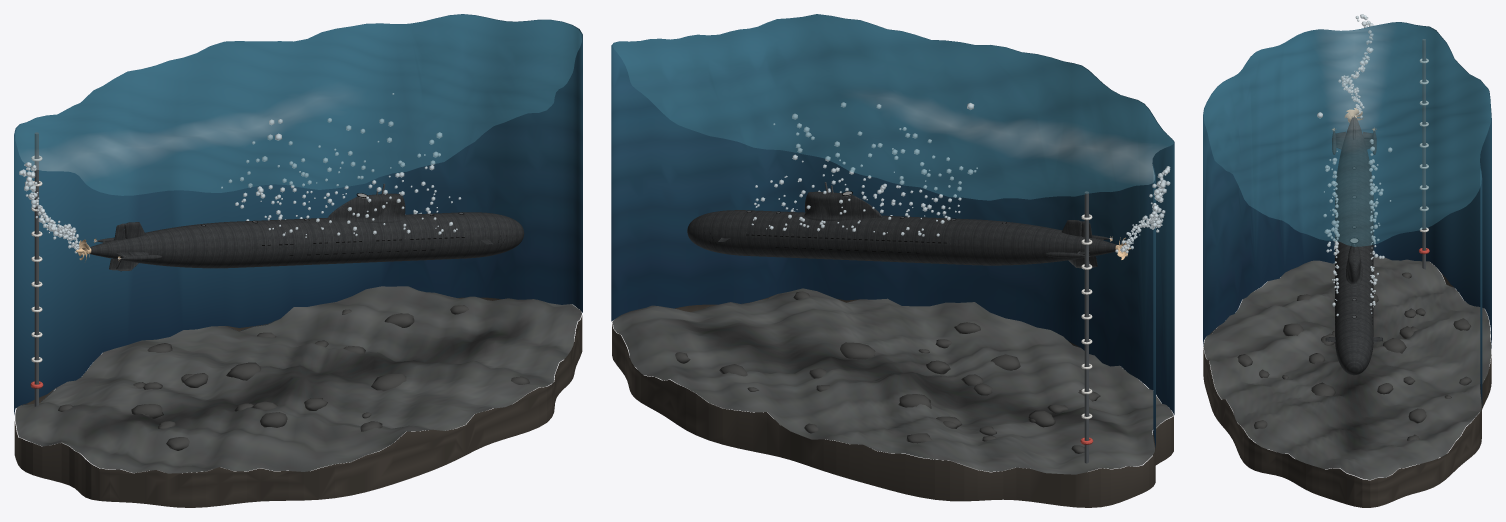
File: k278-komsomolec.glb
3 renders of one model, left to right at view 1: azimuth 30°, elevation 25°; view 2: azimuth 150°, elevation 25°; view 3: azimuth 270°, elevation 25°, orthographic. The views are drawn at different scales.
Visible parts, largest first — view 1: tolshcha_vody, poverhnost, dno, bok_grunta, korpus, kamni, puzyri, ograzhdenie, shkala_stolb; view 2: tolshcha_vody, poverhnost, dno, bok_grunta, korpus, kamni, puzyri, ograzhdenie, shkala_stolb; view 3: tolshcha_vody, poverhnost, dno, bok_grunta, korpus, kamni, puzyri, shkala_stolb, ograzhdenie.
Boxes of the visible parts, box(x1,y1,x2,y2) form: tolshcha_vody: box(14, 14, 582, 414); poverhnost: box(15, 15, 581, 195); dno: box(15, 286, 581, 473); bok_grunta: box(14, 297, 582, 507); korpus: box(90, 212, 524, 268); kamni: box(58, 305, 529, 450); puzyri: box(19, 93, 461, 253); ograzhdenie: box(326, 193, 405, 223); shkala_stolb: box(34, 132, 38, 406); tolshcha_vody: box(611, 14, 1174, 447); poverhnost: box(613, 14, 1173, 200); dno: box(612, 288, 1173, 474); bok_grunta: box(612, 294, 1173, 507); korpus: box(687, 210, 1116, 265); kamni: box(675, 291, 1100, 453); puzyri: box(751, 102, 1170, 253); ograzhdenie: box(804, 191, 882, 220); shkala_stolb: box(1084, 191, 1088, 463); tolshcha_vody: box(1203, 22, 1491, 406); poverhnost: box(1204, 22, 1490, 246); dno: box(1203, 256, 1491, 479); bok_grunta: box(1203, 269, 1491, 507); korpus: box(1335, 117, 1373, 375); kamni: box(1237, 272, 1471, 440); puzyri: box(1317, 14, 1392, 316); shkala_stolb: box(1422, 39, 1425, 269); ograzhdenie: box(1346, 237, 1362, 284).
Bounding box in the file's own units: 150 × 81.66 × 79.42.
Materials: 15 (1 with a texture image).
